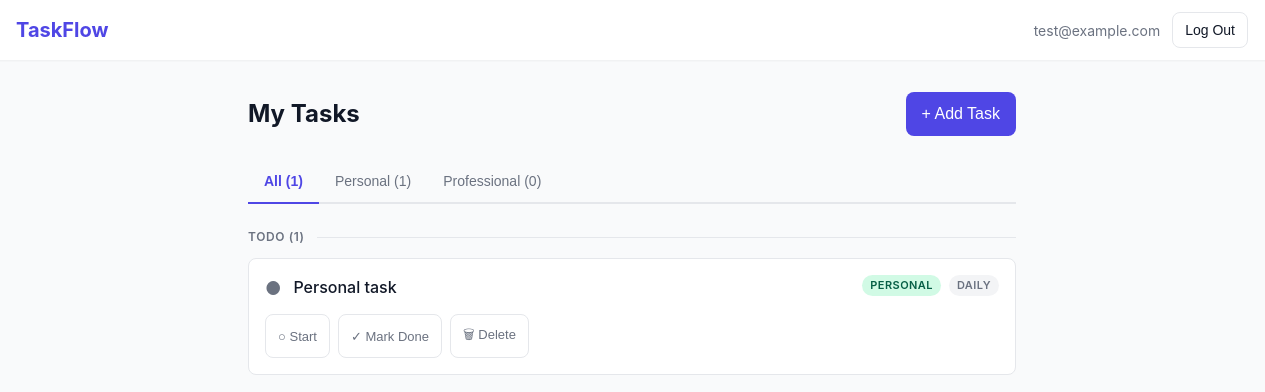
Test case: Dashboard — task status updates and deletes › status update reflects in task list
Expected: the text "Personal task" is shown, left=294, top=277, right=397, bottom=297
Step 1. Click the button with aria-label "start task" → (297, 336), box left=265, top=314, right=330, bottom=358
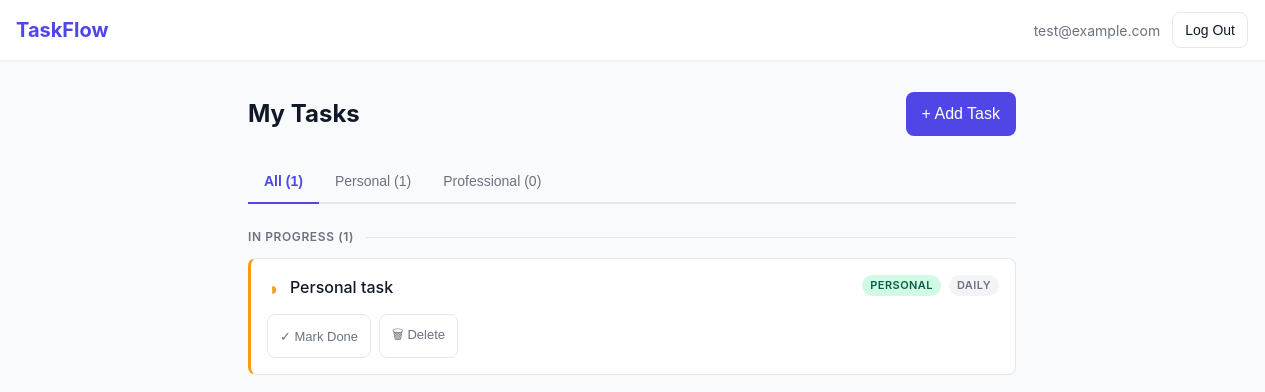
Now the heading "IN PROGRESS (1)" is shown, box left=248, top=229, right=354, bottom=244
